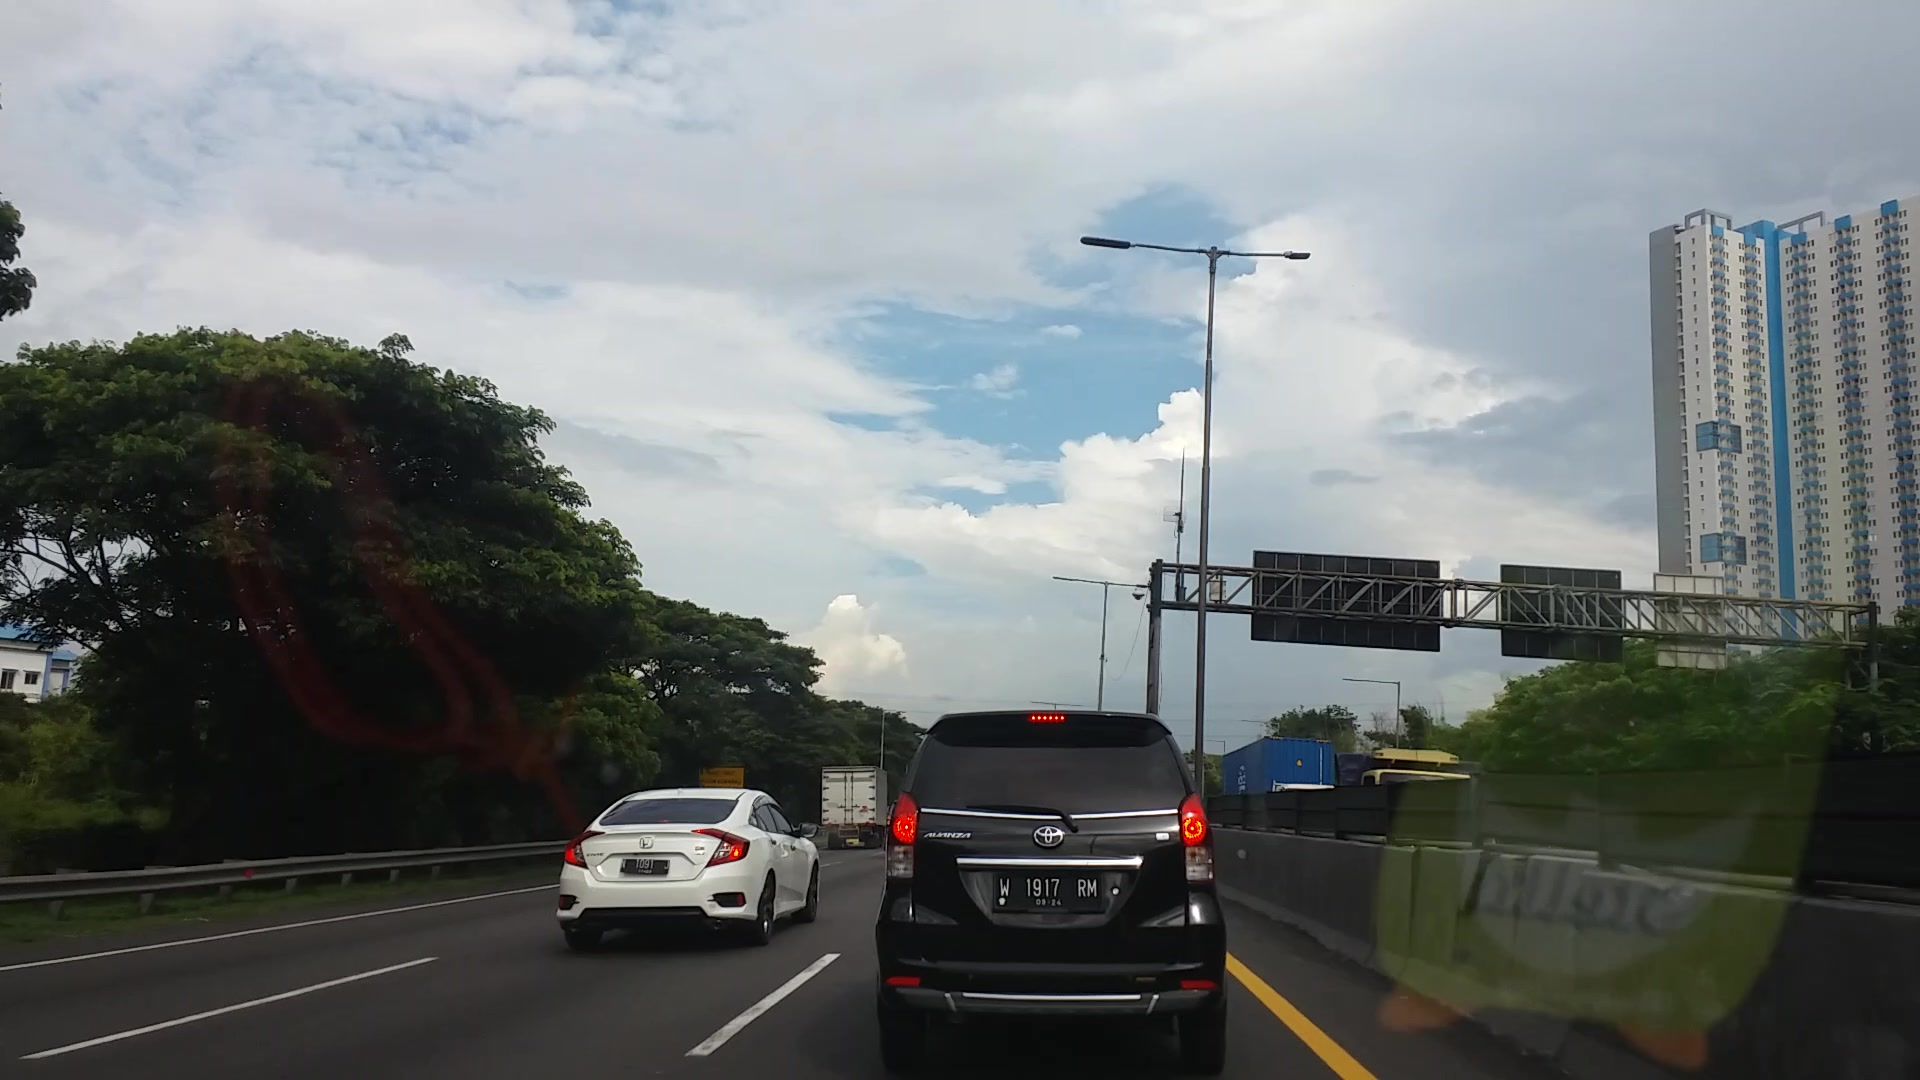plate_positive: (994, 874, 1102, 909)
